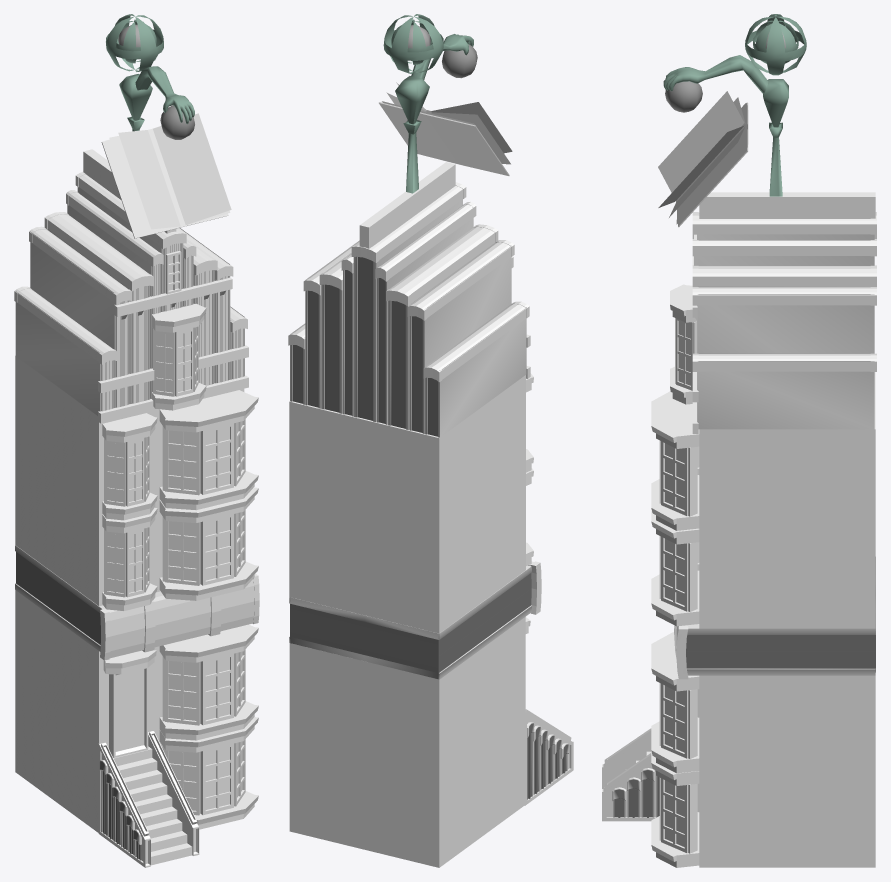
Rendered from Environment_Library.fbx.
The picture shows the model from 3 angles, left to right: view 1: azimuth 30°, elevation 25°; view 2: azimuth 150°, elevation 25°; view 3: azimuth 270°, elevation 25°; orthographic projection. The views are drawn at different scales.
Visible parts, largest first — view 1: MockUp_UPDATED_03:BUILDING_RING:pCube202, MockUp_UPDATED_03:BUILDING_RING:pCube202.008, Plane, MockUp_UPDATED_03:BUILDING_RING:pCube202.006, MockUp_UPDATED_03:BUILDING_RING:pCube202.004, MockUp_UPDATED_03:BUILDING_RING:pCube202.005, MockUp_UPDATED_03:BUILDING_RING:pCube202.001, BUILDING_RING:pCube202.002, MockUp_UPDATED_03:BUILDING_RING:pCube202.007, MockUp_UPDATED_03:BUILDING_RING:pCube202.003, MockUp_UPDATED_03:BUILDING_RING:pCube202.002, MockUp_UPDATED_03:BUILDING_RING:pCube202.009 (+1 smaller); view 2: MockUp_UPDATED_03:BUILDING_RING:pCube202, BUILDING_RING:pCube202.002, Plane, MockUp_UPDATED_03:BUILDING_RING:pCube202.009, MockUp_UPDATED_03:BUILDING_RING:pCube202.008; view 3: MockUp_UPDATED_03:BUILDING_RING:pCube202, BUILDING_RING:pCube202.002, Plane, MockUp_UPDATED_03:BUILDING_RING:pCube202.006, MockUp_UPDATED_03:BUILDING_RING:pCube202.004, MockUp_UPDATED_03:BUILDING_RING:pCube202.005, MockUp_UPDATED_03:BUILDING_RING:pCube202.001, MockUp_UPDATED_03:BUILDING_RING:pCube202.008, MockUp_UPDATED_03:BUILDING_RING:pCube202.003, MockUp_UPDATED_03:BUILDING_RING:pCube202.009.
Part boxes in pixels (bbox=[...]): MockUp_UPDATED_03:BUILDING_RING:pCube202: bbox=[14, 149, 259, 832]; MockUp_UPDATED_03:BUILDING_RING:pCube202.008: bbox=[98, 668, 199, 867]; Plane: bbox=[101, 113, 231, 238]; MockUp_UPDATED_03:BUILDING_RING:pCube202.006: bbox=[159, 390, 258, 510]; MockUp_UPDATED_03:BUILDING_RING:pCube202.004: bbox=[159, 624, 258, 740]; MockUp_UPDATED_03:BUILDING_RING:pCube202.005: bbox=[159, 487, 258, 600]; MockUp_UPDATED_03:BUILDING_RING:pCube202.001: bbox=[159, 717, 258, 829]; BUILDING_RING:pCube202.002: bbox=[106, 14, 194, 139]; MockUp_UPDATED_03:BUILDING_RING:pCube202.007: bbox=[102, 413, 157, 520]; MockUp_UPDATED_03:BUILDING_RING:pCube202.003: bbox=[152, 303, 206, 410]; MockUp_UPDATED_03:BUILDING_RING:pCube202.002: bbox=[102, 507, 157, 610]; MockUp_UPDATED_03:BUILDING_RING:pCube202.009: bbox=[99, 760, 141, 860]; MockUp_UPDATED_03:BUILDING_RING:pCube202: bbox=[288, 162, 541, 867]; BUILDING_RING:pCube202.002: bbox=[383, 14, 477, 193]; Plane: bbox=[378, 82, 512, 175]; MockUp_UPDATED_03:BUILDING_RING:pCube202.009: bbox=[527, 722, 568, 800]; MockUp_UPDATED_03:BUILDING_RING:pCube202.008: bbox=[525, 709, 573, 805]; MockUp_UPDATED_03:BUILDING_RING:pCube202: bbox=[674, 192, 876, 867]; BUILDING_RING:pCube202.002: bbox=[663, 14, 806, 196]; Plane: bbox=[658, 91, 748, 227]; MockUp_UPDATED_03:BUILDING_RING:pCube202.006: bbox=[651, 391, 699, 530]; MockUp_UPDATED_03:BUILDING_RING:pCube202.004: bbox=[651, 632, 699, 773]; MockUp_UPDATED_03:BUILDING_RING:pCube202.005: bbox=[651, 509, 699, 626]; MockUp_UPDATED_03:BUILDING_RING:pCube202.001: bbox=[651, 751, 699, 867]; MockUp_UPDATED_03:BUILDING_RING:pCube202.008: bbox=[602, 689, 699, 821]; MockUp_UPDATED_03:BUILDING_RING:pCube202.003: bbox=[670, 284, 696, 404]; MockUp_UPDATED_03:BUILDING_RING:pCube202.009: bbox=[612, 768, 659, 817].
Bounding box in the file's own units: 1379 × 6614 × 2024.
